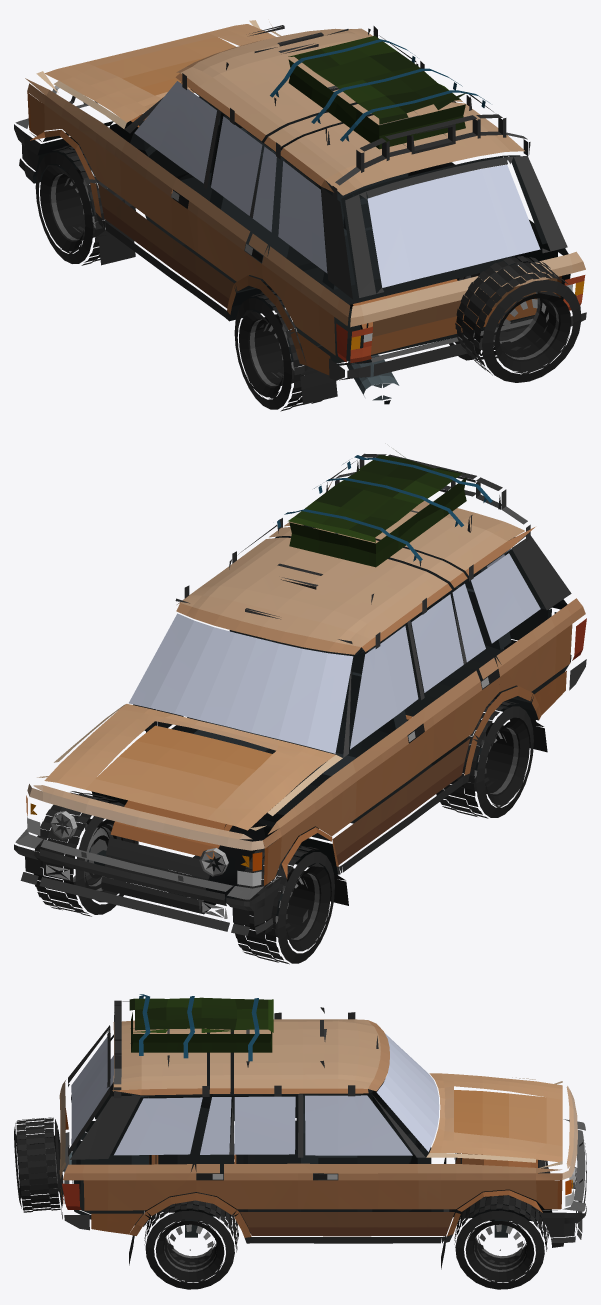
File: rangerover.glb
3 renders of one model, top to bottom at view 1: azimuth 30°, elevation 25°; view 2: azimuth 150°, elevation 25°; view 3: azimuth 270°, elevation 25°, orthographic. The views are drawn at different scales.
Parts seen in each view (by area): view 1: Car; view 2: Car; view 3: Car.
Boxes of the visible parts, x1,y1,x2,y2 form: Car: [14, 20, 586, 411]; Car: [14, 450, 586, 964]; Car: [14, 994, 586, 1289].
Size of the model in its own units: 1.82 by 2.07 by 4.5.
Materials: 2 (1 with a texture image).
